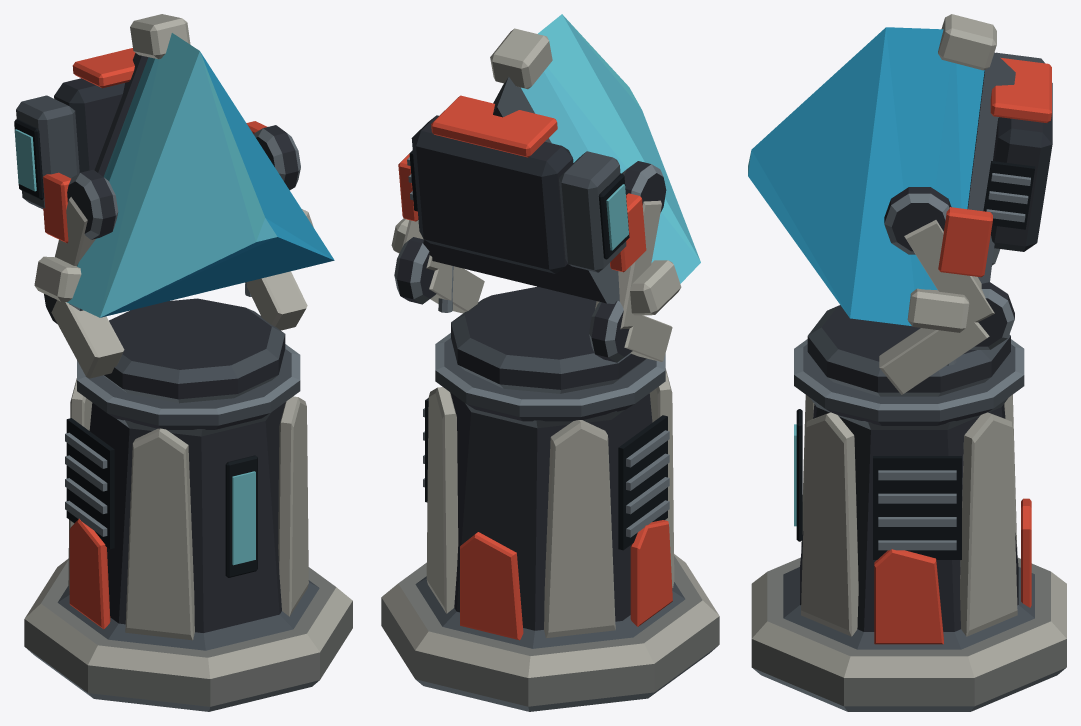
The model's file is lv5_givre.glb.
The picture shows the model from 3 angles, left to right: view 1: azimuth 30°, elevation 25°; view 2: azimuth 150°, elevation 25°; view 3: azimuth 270°, elevation 25°; orthographic projection. The views are drawn at different scales.
Visible parts, largest first — view 1: Base, Barrel_Recoil, Turret_Yaw, Base_TeamColor, Team_Panels; view 2: Base, Barrel_Recoil, Turret_Yaw, Base_TeamColor, Team_Panels; view 3: Base, Barrel_Recoil, Turret_Yaw, Base_TeamColor, Team_Panels.
Boxes of the visible parts, x1,y1,x2,y2 form: Base: (24, 344, 352, 711); Barrel_Recoil: (14, 14, 334, 317); Turret_Yaw: (44, 125, 307, 403); Base_TeamColor: (69, 518, 110, 629); Team_Panels: (43, 48, 267, 243); Base: (381, 333, 719, 711); Barrel_Recoil: (391, 14, 700, 315); Turret_Yaw: (394, 161, 672, 393); Base_TeamColor: (460, 520, 672, 640); Team_Panels: (398, 95, 646, 272); Base: (751, 339, 1066, 711); Barrel_Recoil: (748, 14, 1052, 332); Turret_Yaw: (807, 187, 1014, 396); Base_TeamColor: (874, 498, 1031, 644); Team_Panels: (938, 57, 1051, 277).
Size of the model in its own units: 1.73 by 3.8 by 1.75.
